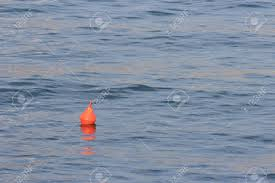buoy: (80, 109, 96, 126)
